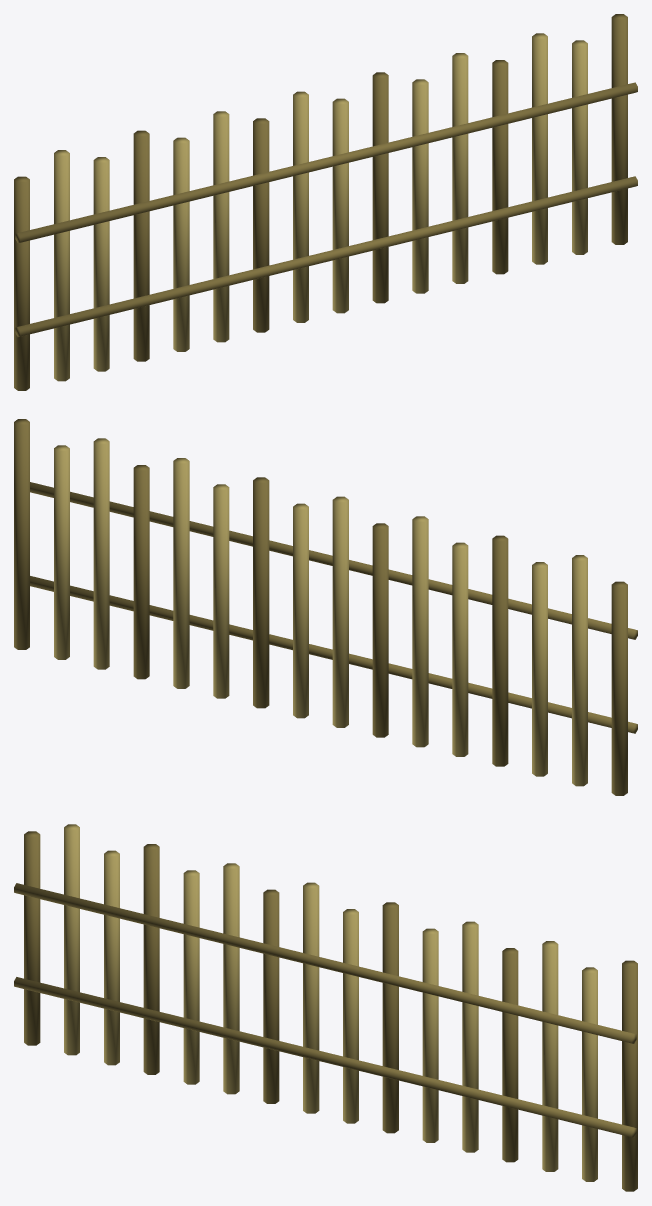
The model's file is fence.glb.
The picture shows the model from 3 angles, top to bottom: view 1: azimuth 30°, elevation 25°; view 2: azimuth 150°, elevation 25°; view 3: azimuth 330°, elevation 25°; orthographic projection.
Parts seen in each view (by area): view 1: Main; view 2: Main; view 3: Main.
Part boxes in pixels (left/top/right/bottom): Main: left=14, top=14, right=637, bottom=390; Main: left=14, top=419, right=637, bottom=795; Main: left=14, top=824, right=637, bottom=1191.
Bounding box in the file's own units: 3.1 × 1.08 × 0.1067.
